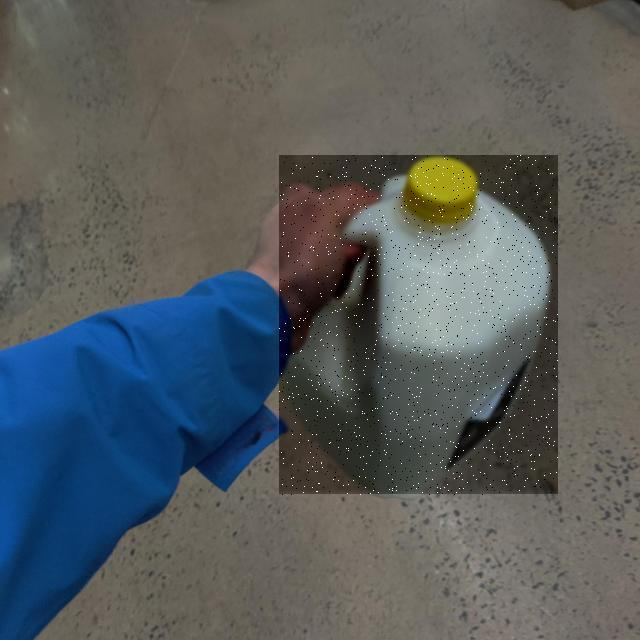Milk: (279, 156, 558, 496)
